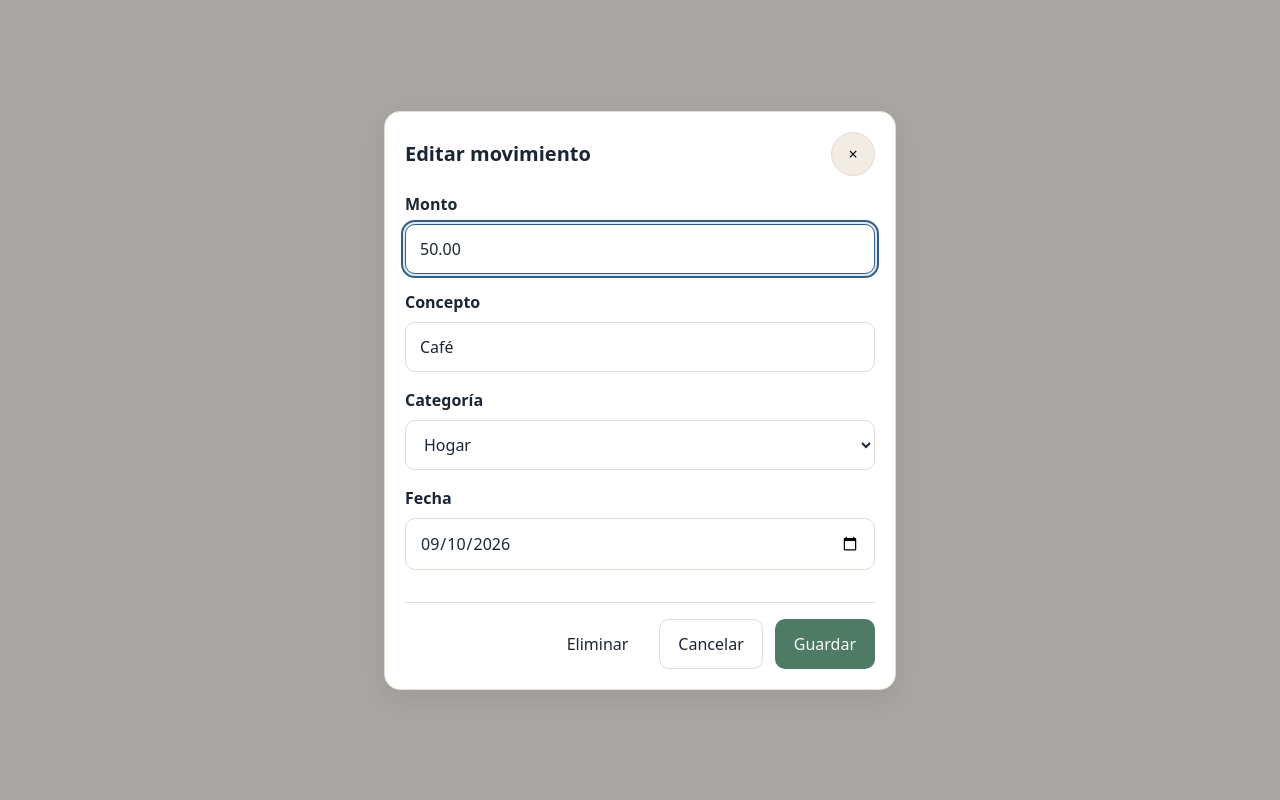
Test case: EditarDialog › muestra los errores de validación sin guardar
Replace the text in the field labelled "Monto" with "abc" at (640, 248), box top-left (405, 224), bottom-right (875, 274)
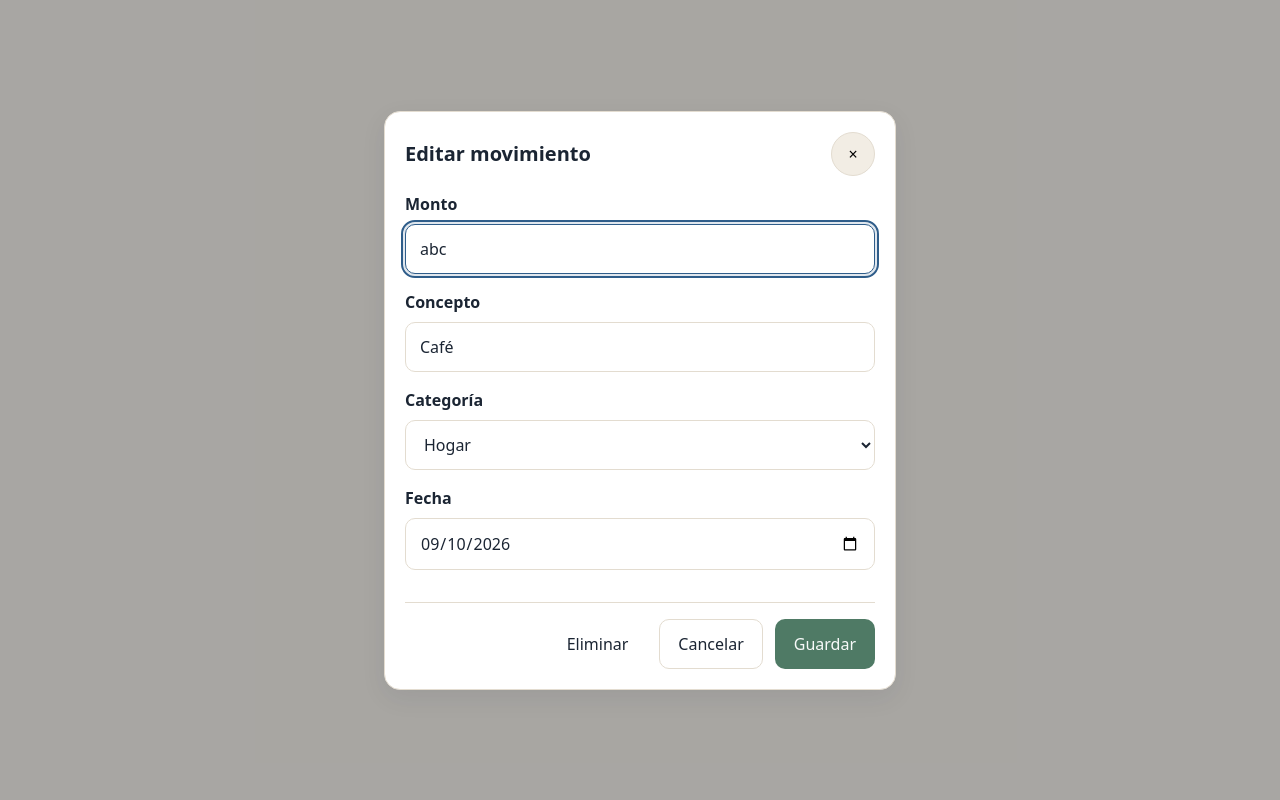
Click the button "Guardar" at (825, 644), box top-left (775, 618), bottom-right (875, 668)
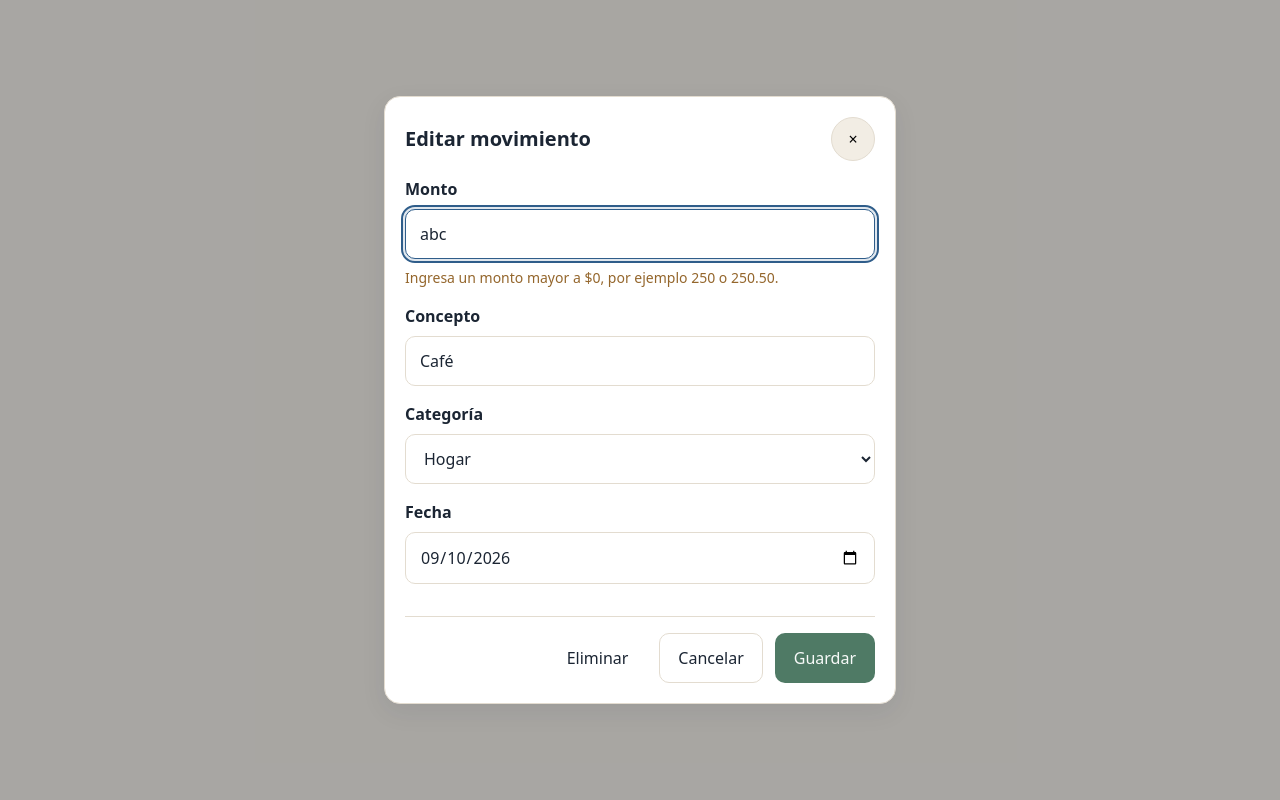
Expected: the message reads "Ingresa un monto mayor a $0, por ejemplo 250 o 250.50.", top-left (405, 268), bottom-right (778, 287)
